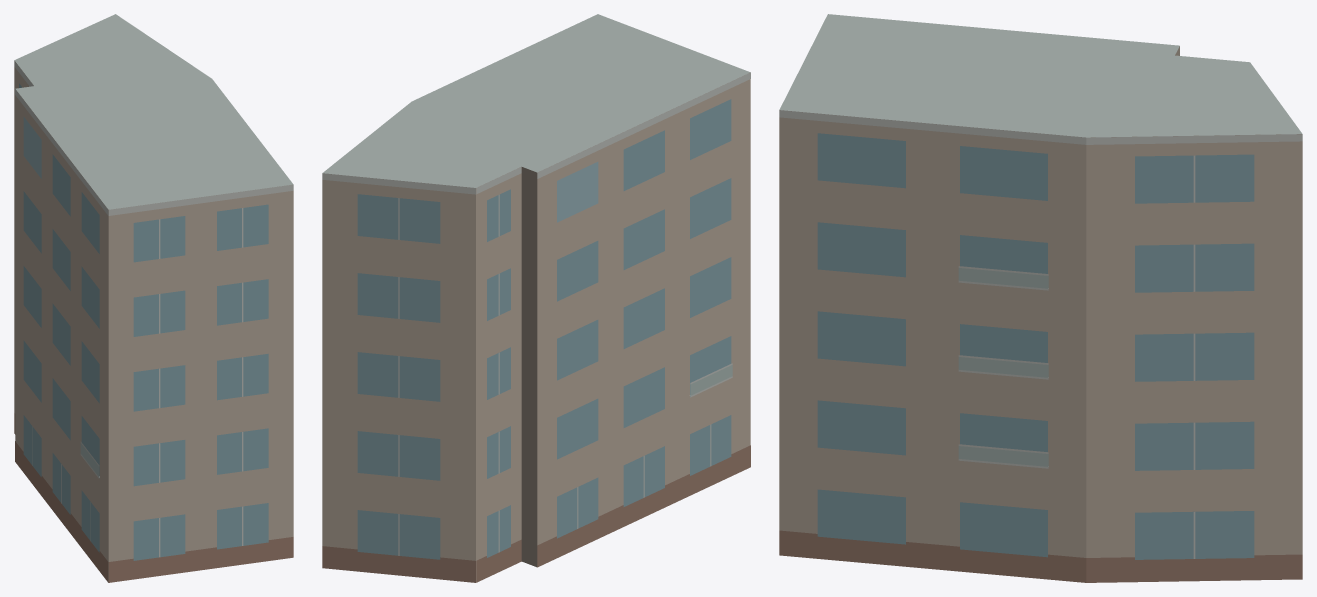
File: survey-upis-32959002.glb
3 views of the same model, side by side, from view 1: azimuth 30°, elevation 25°; view 2: azimuth 150°, elevation 25°; view 3: azimuth 270°, elevation 25° (orthographic). The views are drawn at different scales.
Visible parts, largest first — view 1: survey-upis-32959002.tmp; view 2: survey-upis-32959002.tmp; view 3: survey-upis-32959002.tmp.
Boxes of the visible parts, x1,y1,x2,y2 form: survey-upis-32959002.tmp: (14, 14, 293, 582); survey-upis-32959002.tmp: (322, 14, 750, 582); survey-upis-32959002.tmp: (779, 14, 1302, 582).
Bounding box in the file's own units: 8.72 × 14.65 × 15.61.
